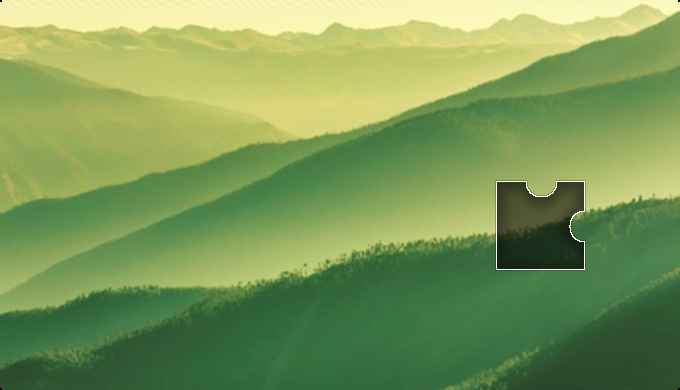gap: (496, 181, 584, 271)
